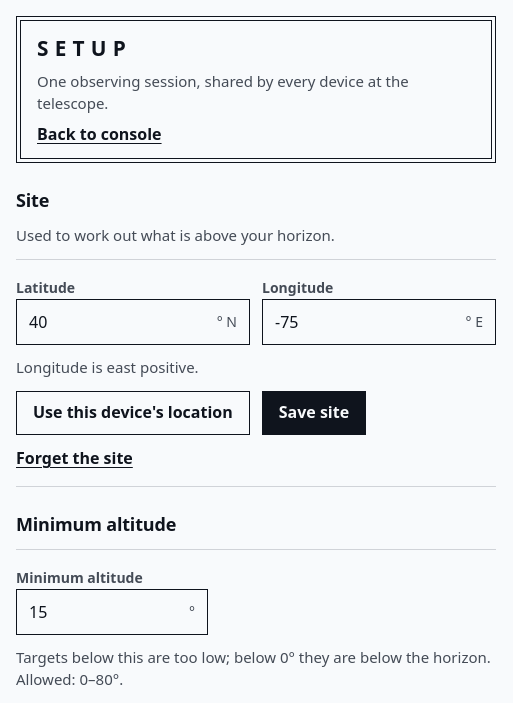
Scenario: Setup › refuses site , 0 and explains both ranges
The width and height of the screenshot is (513, 703).
Clear the field labelled "Latitude" at (117, 322), box [17,300,217,344]
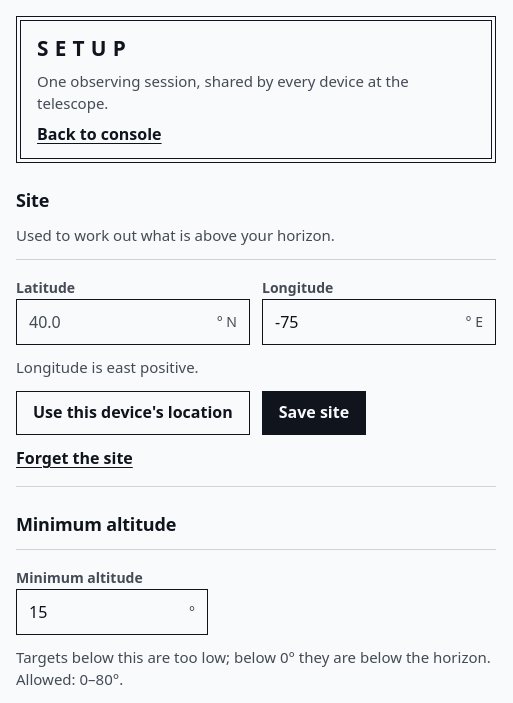
Replace the text in the field labelled "Longitude" with "0" at (364, 322), box [263,300,466,344]
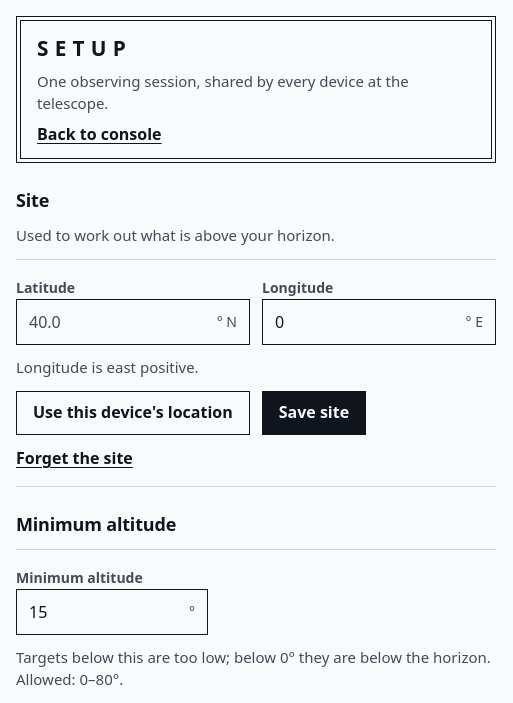
Click the button "Save site".
click(314, 413)  # box [262,391,366,435]
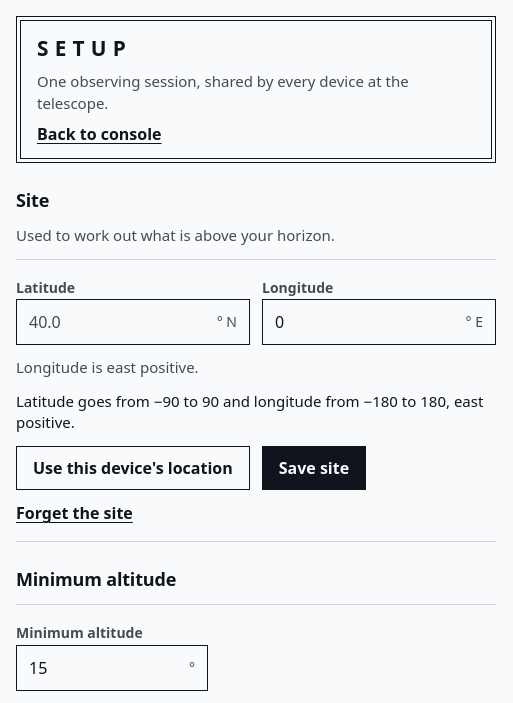
Check: the message reads "Latitude goes from −90 to 90 and longitude from −180 to 180, east positive.", box [16,391,483,432]
